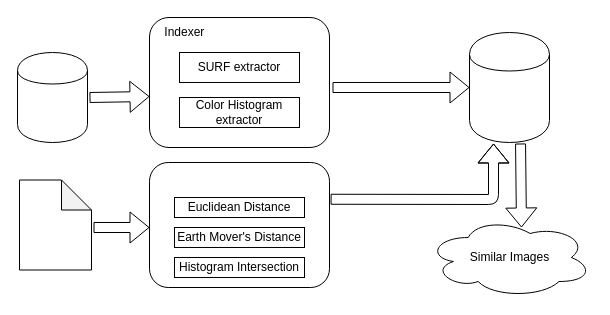
Some shapes in this 610 by 315 pixel diagram are drawn without their labels. The box of each missing label's shape, as (x1, y1, x2, y2) in pixels:
Dataset: (16, 52, 88, 142)
Input Image: (18, 179, 92, 270)
LIRE Indexed Dataset: (468, 32, 550, 142)
Searcher: (148, 162, 330, 288)
